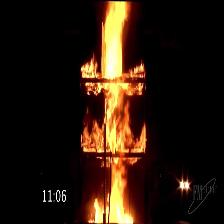fire: (76, 0, 150, 220), (79, 1, 144, 89)
